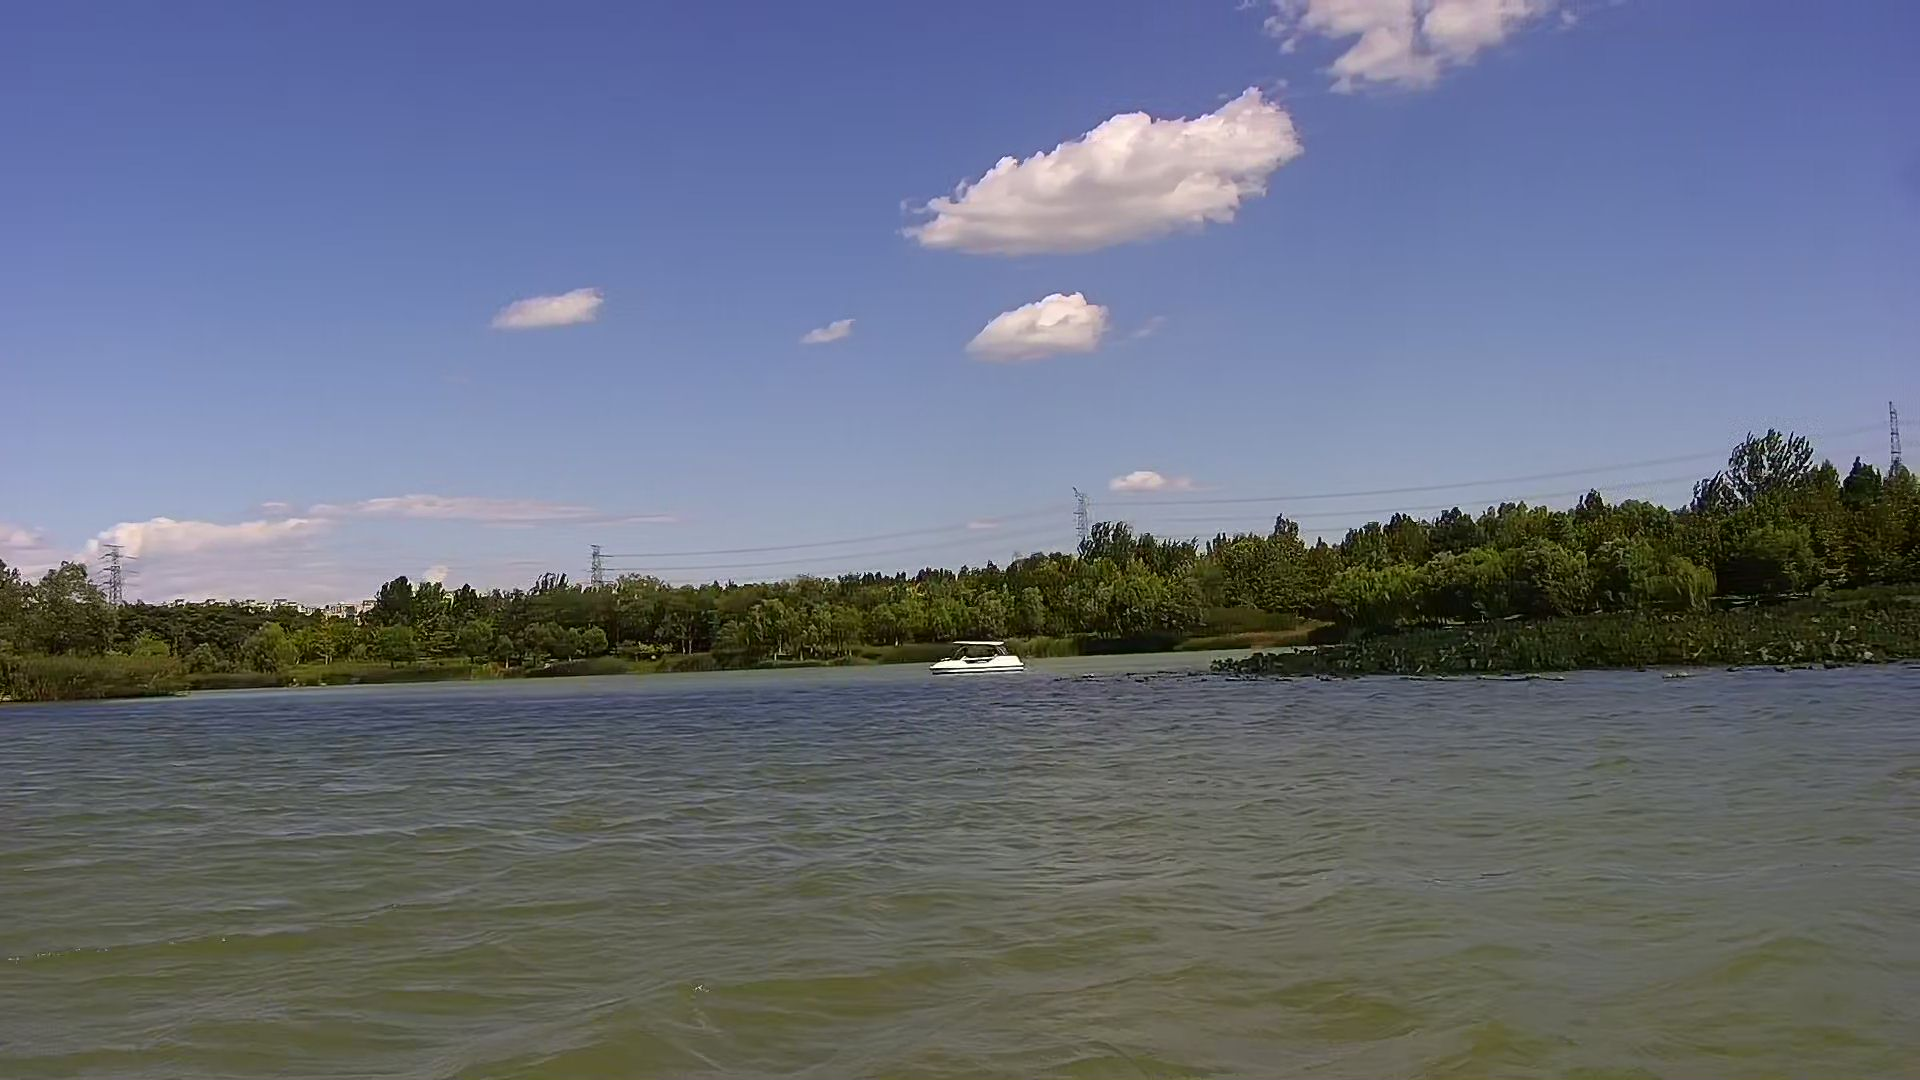boat: (924, 633, 1029, 680)
